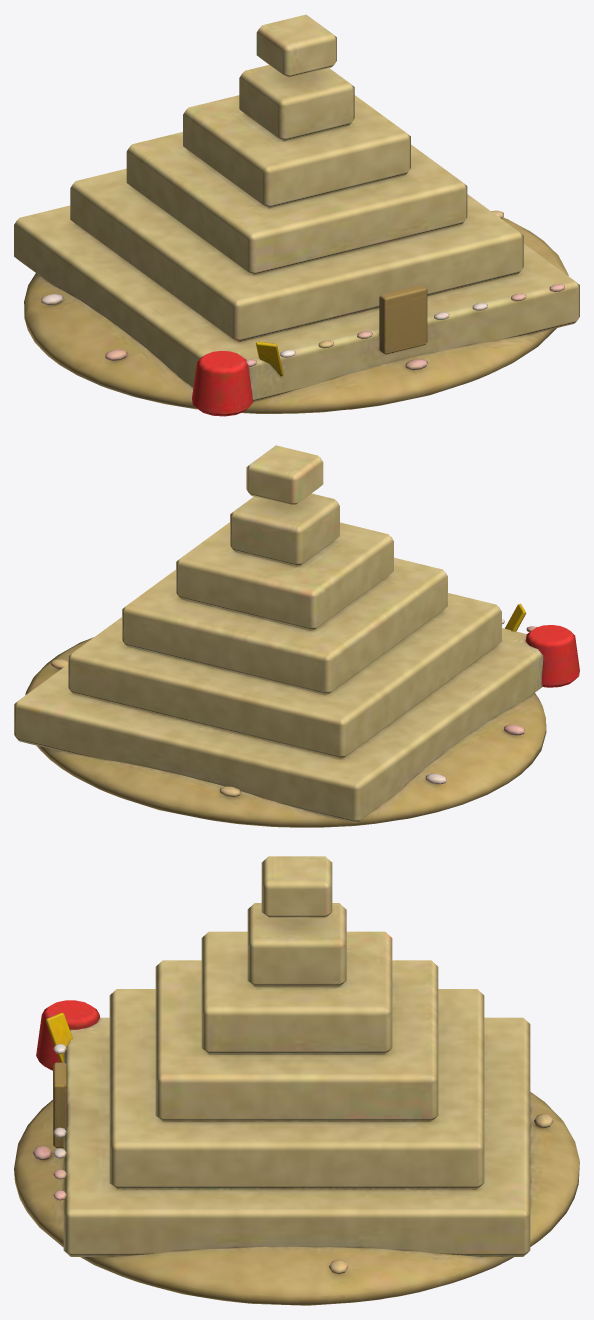
File: sand_pyramid.glb
The picture shows the model from 3 angles, top to bottom: view 1: azimuth 30°, elevation 25°; view 2: azimuth 150°, elevation 25°; view 3: azimuth 270°, elevation 25°; orthographic projection. The views are drawn at different scales.
Parts seen in each view (by area): view 1: sand_pyramid; view 2: sand_pyramid; view 3: sand_pyramid.
Boxes of the visible parts, <box> form: sand_pyramid: <box>14,14,579,416</box>; sand_pyramid: <box>14,445,579,827</box>; sand_pyramid: <box>14,856,579,1305</box>.
Bounding box in the file's own units: 0.8795 × 0.5204 × 0.8004.
1 material, 1 textured.
